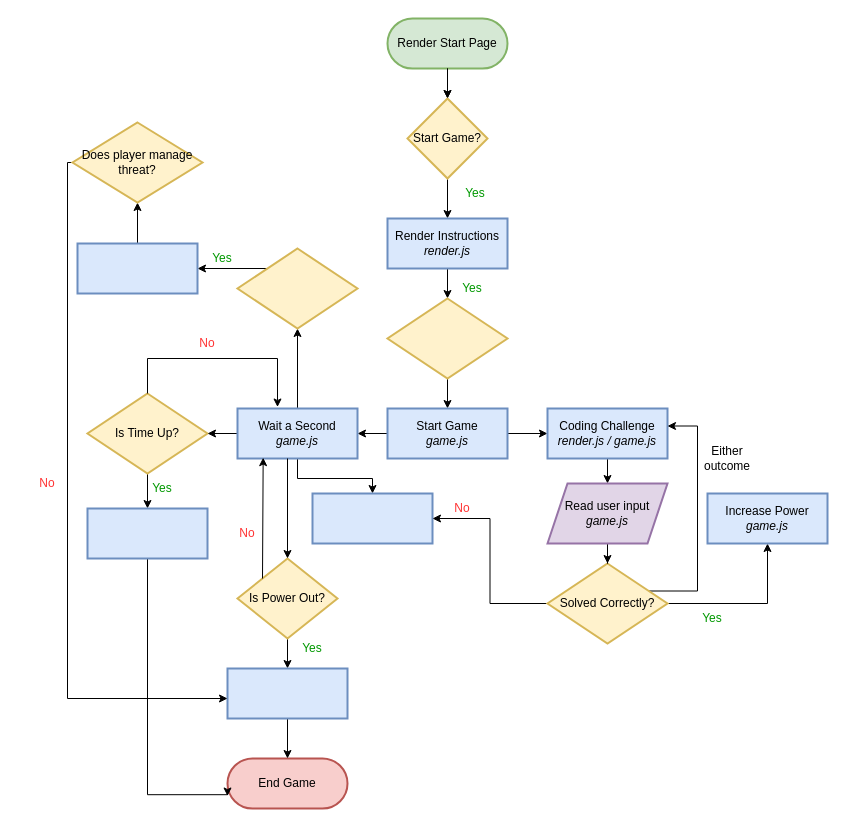
This 845x826 diagram has some shape labels left out. The box of each missing label's shape, as (x1, y1, x2, y2) in pixels:
Create Threat render.js / game.js: (76, 242, 198, 294)
Does time = n?: (236, 247, 358, 329)
Reduce Power game.js: (311, 492, 433, 544)
Render Player Loss render.js: (226, 667, 348, 719)
Render Player Win render.js: (86, 507, 208, 559)
Understand Instructions?: (386, 297, 508, 379)
